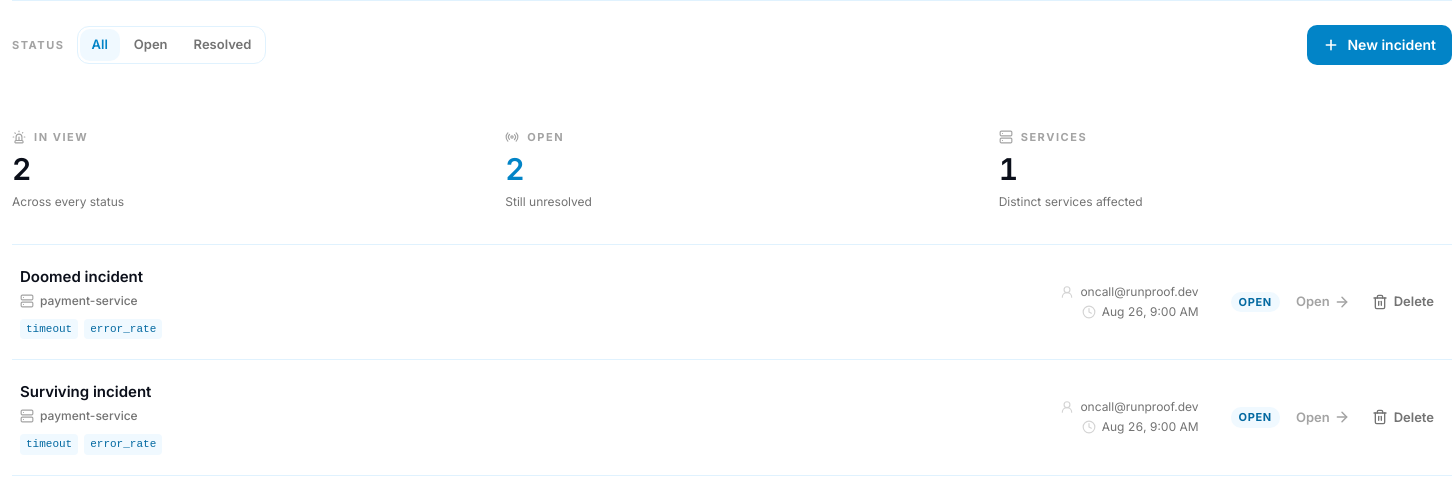
Test case: IncidentsClient › deleting from the list › refetches the list so the deleted row disappears
Expected: the text "Doomed incident" is shown, [20,266,143,286]
Click the button named "delete doomed incident" at (1403, 302), box [1362,286,1444,318]
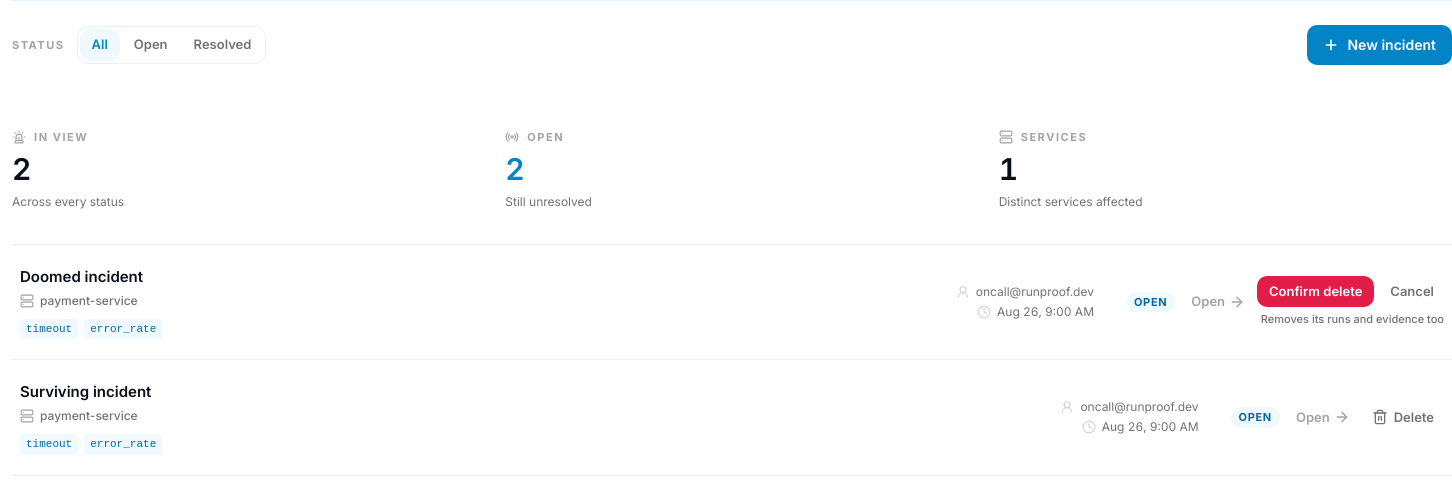
Click the button "Confirm delete" at (1316, 292), box [1257,276,1374,307]
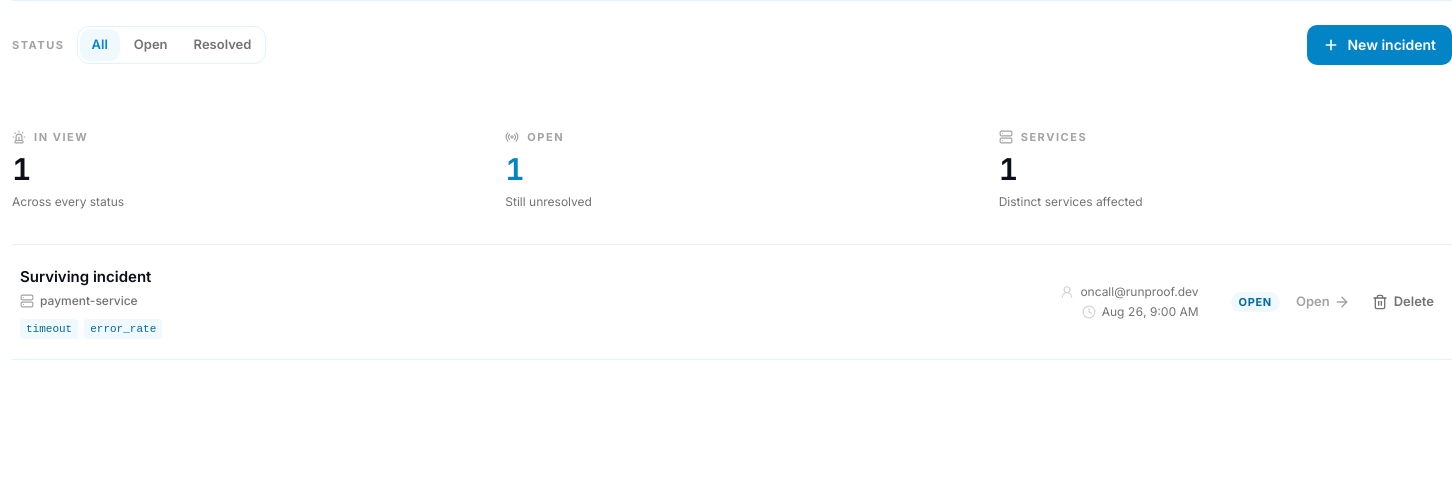
Expected: the text "Surviving incident" is shown, [20,266,151,286]
Expected: the link "Doomed incident" is gone
